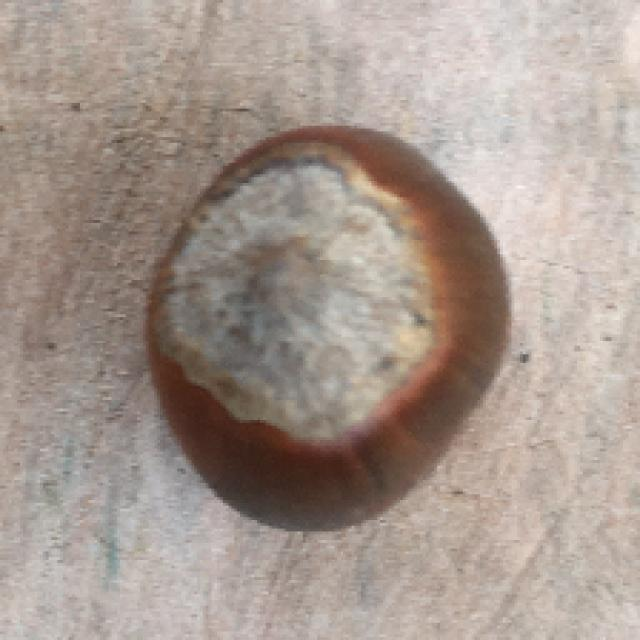damagedHazelnut: (145, 118, 521, 551)
